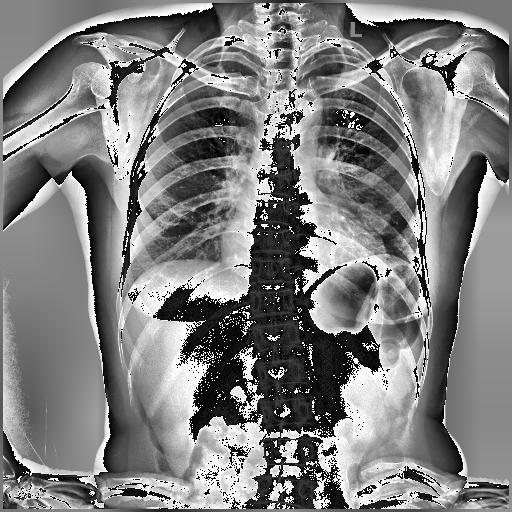0- Aortic enlargement: (282, 86, 325, 130)
13- Pulmonary fibrosis: (352, 200, 392, 235)
3- Cardiomegaly: (220, 216, 388, 272), (216, 233, 388, 275)
7- Lung Opacity: (354, 202, 398, 232)
8- Nodule-Mass: (354, 202, 398, 232), (356, 202, 392, 234)
